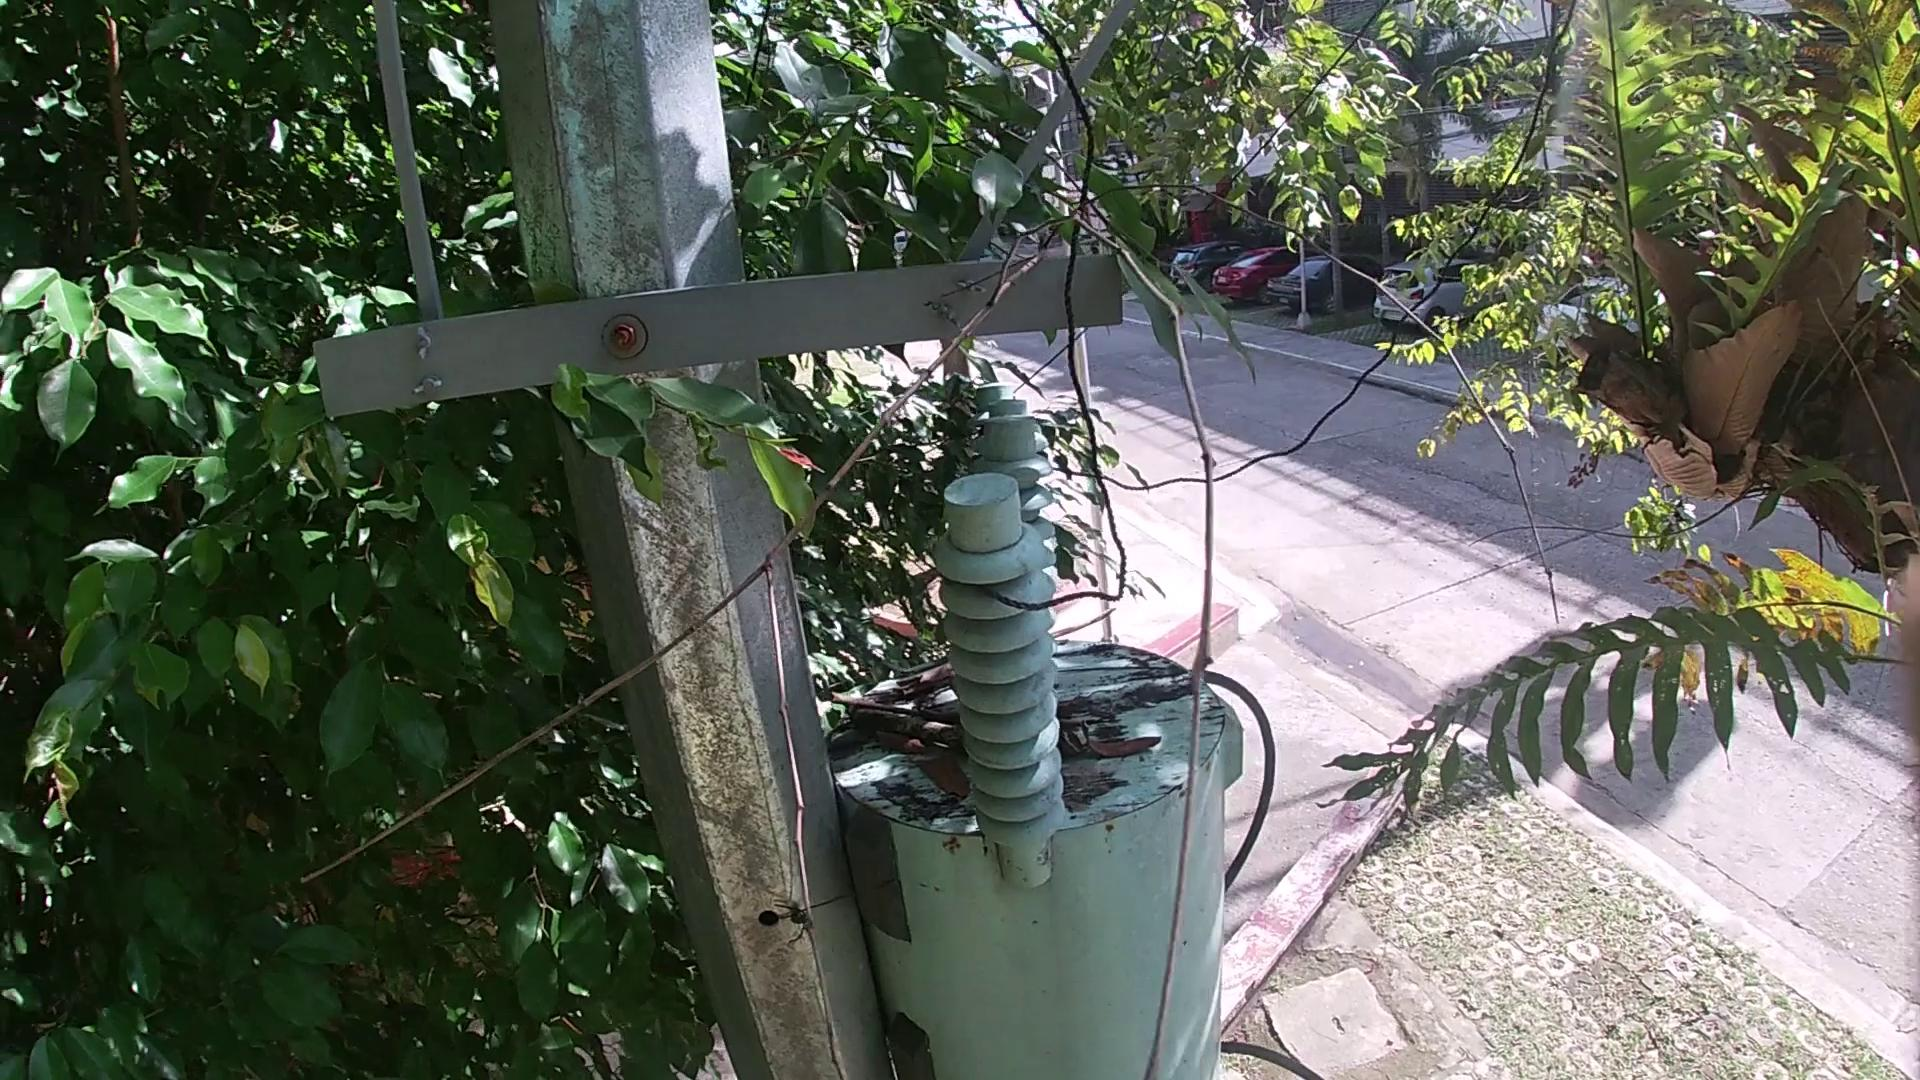leaf: (1076, 713, 1167, 765), (906, 746, 973, 807), (873, 731, 932, 758)
tree branch: (280, 167, 1577, 1073), (820, 694, 975, 752), (893, 662, 957, 709)
